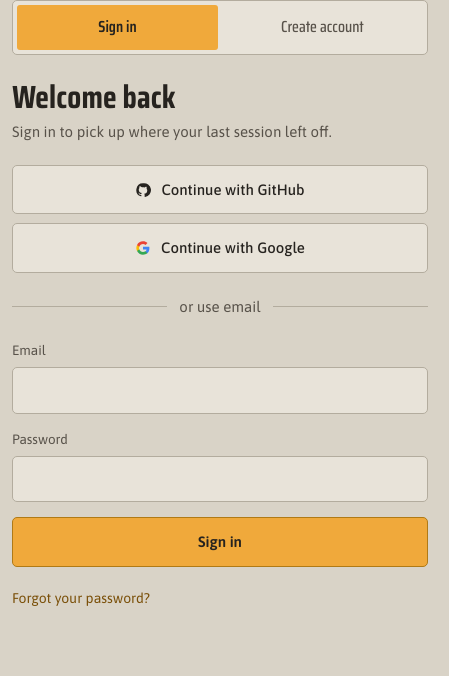
Scenario: submitting › surfaces the failure message
The width and height of the screenshot is (449, 676).
In the field labelled "Email": (220, 390) [12,367,428,414], type "reader@example.com"
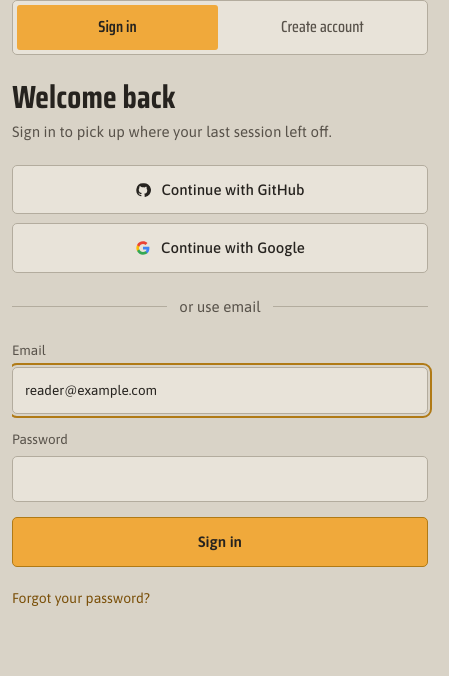
In the password field labelled "Password": (220, 479) [12,456,428,502], type "wrong one here"
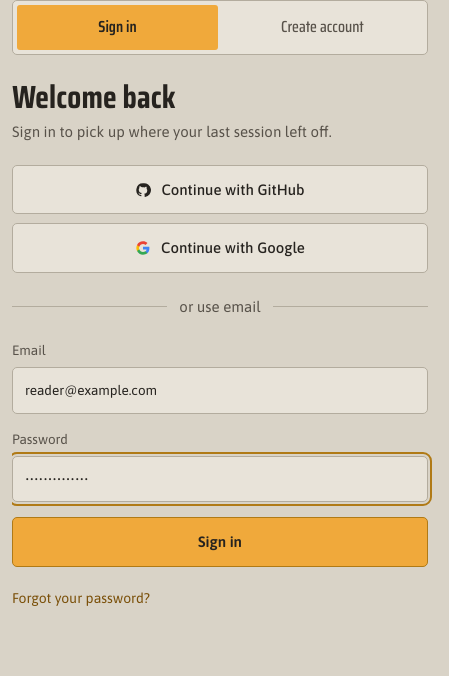
Click the button "Sign in": (220, 542) [12,517,428,567]
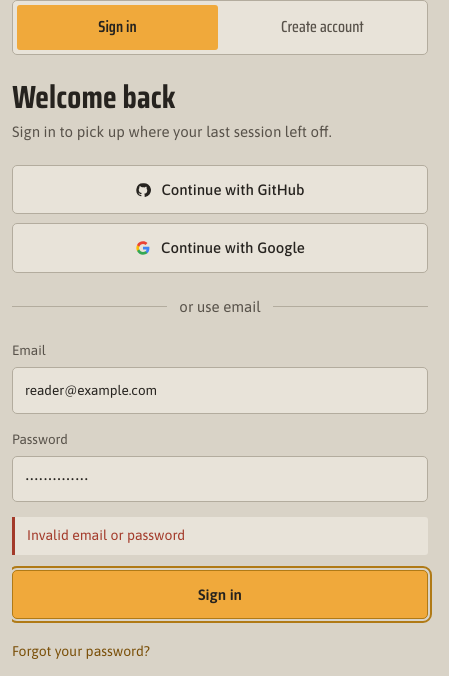
Result: the text "Invalid email or password" is shown at [12,517,428,555]
